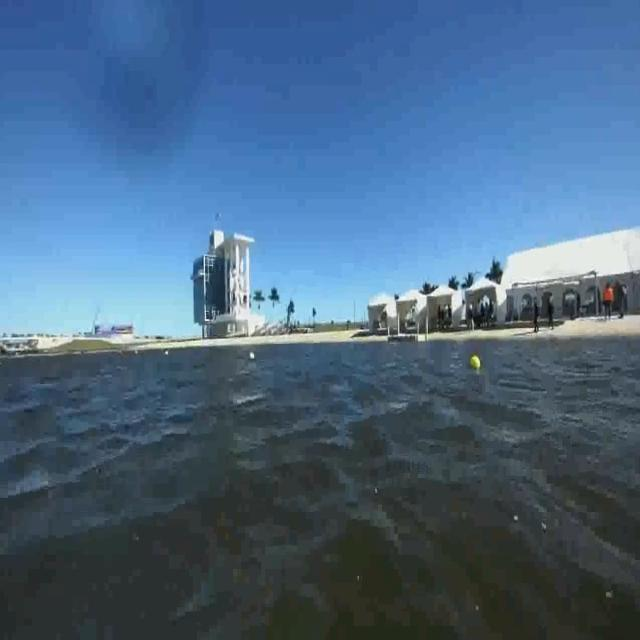yellow-buoy: (468, 352, 482, 372)
